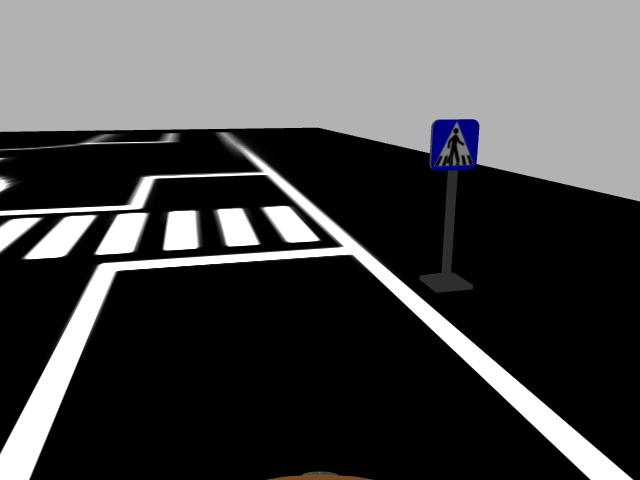crosswalk: (428, 116, 482, 175)
